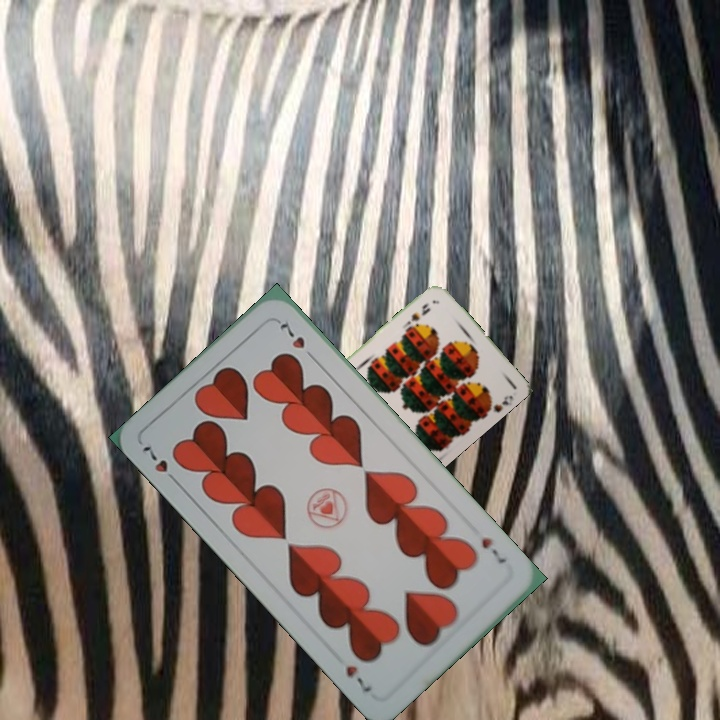H7: (138, 441, 182, 488), (477, 533, 510, 567)
S9: (403, 299, 433, 327)
